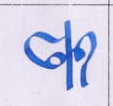o_matra: (68, 29, 96, 87)
